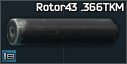Rotor 43 .366TKM muzzle brake: (0, 0, 127, 64)
